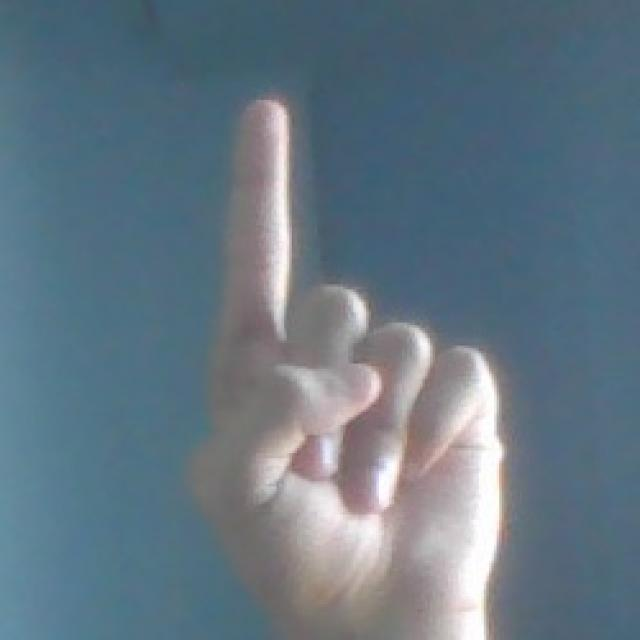Numeric-1: (196, 95, 508, 638)
